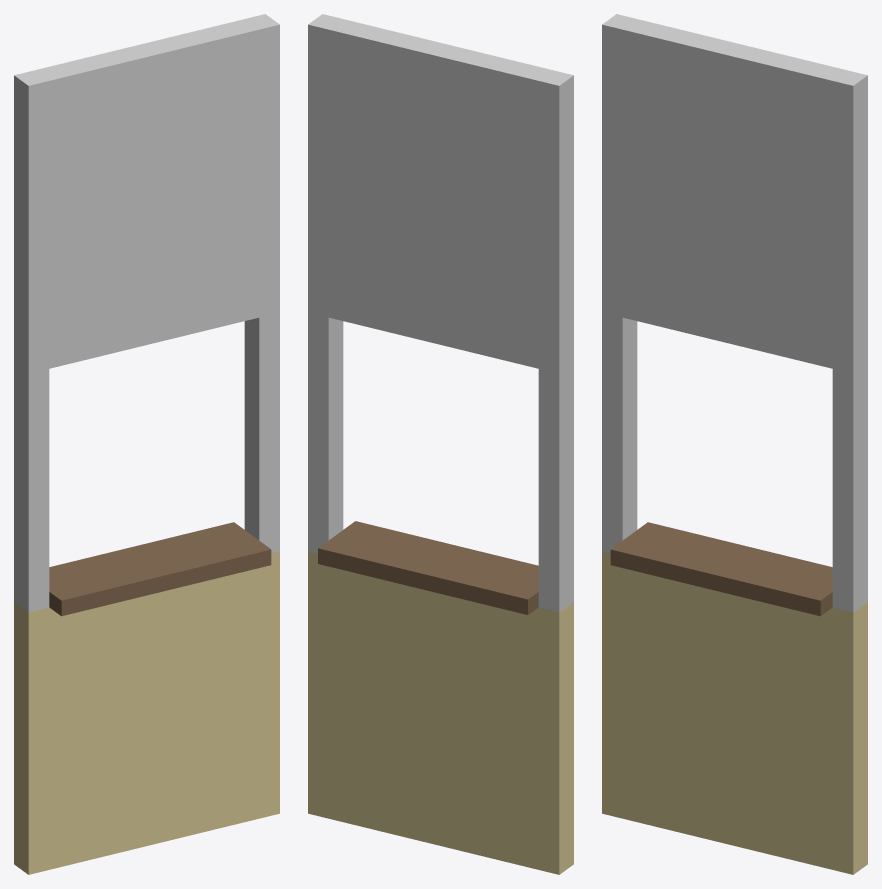
File: Mesh_Wall2Colors_G2.fbx
3 views of the same model, side by side, from view 1: azimuth 30°, elevation 25°; view 2: azimuth 150°, elevation 25°; view 3: azimuth 330°, elevation 25° (orthographic).
Parts seen in each view (by area): view 1: Mesh_Wall2Colors_G2; view 2: Mesh_Wall2Colors_G2; view 3: Mesh_Wall2Colors_G2.
Part boxes in pixels (box(x1,y1,x2,y2)): Mesh_Wall2Colors_G2: box(14, 14, 279, 874); Mesh_Wall2Colors_G2: box(308, 14, 573, 874); Mesh_Wall2Colors_G2: box(602, 14, 867, 874).
Bounding box in the file's own units: 1 × 3 × 0.2574.
